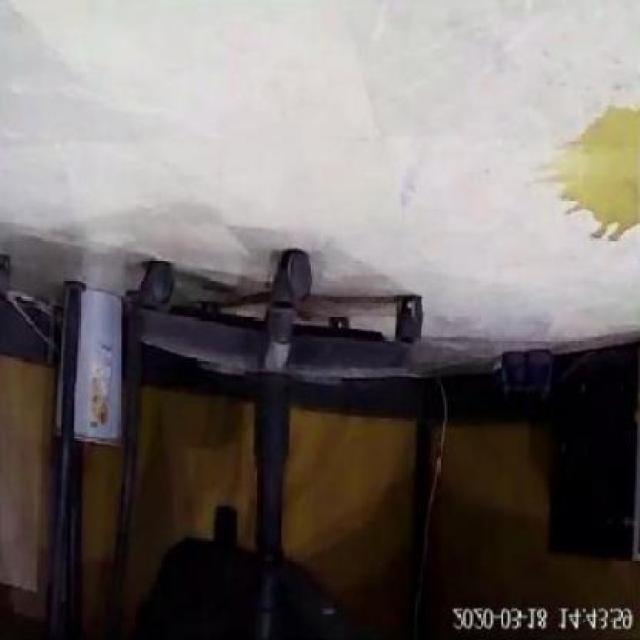spillage: (555, 106, 640, 235)
